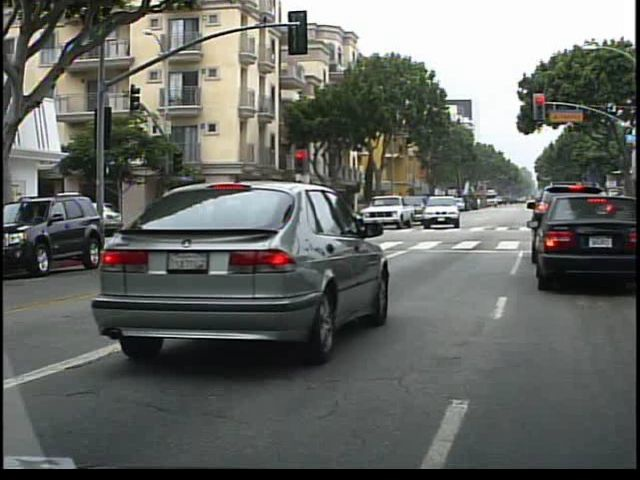person: (187, 191, 205, 238), (207, 193, 225, 234)
